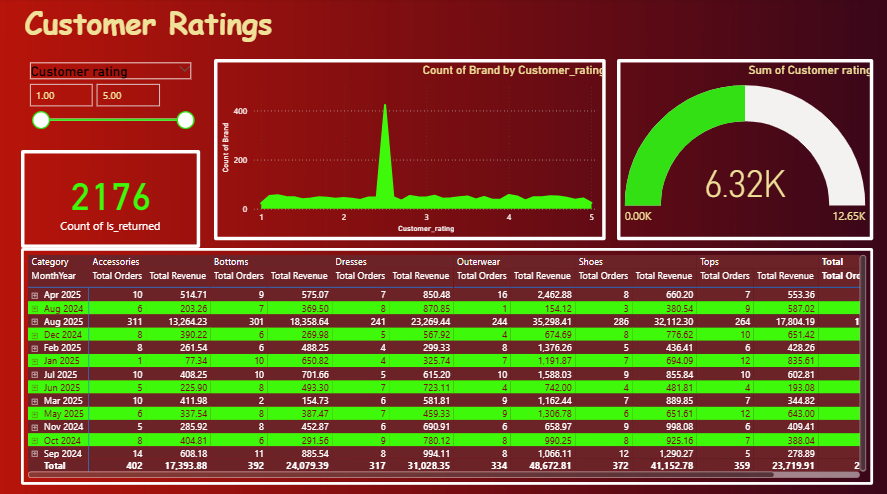

Layout of this report page (visuals, bound fields, positions):
{"tool":"powerbi","page":{"name":"Ratings","canvas":[1280,720],"ordinal":6},"visuals":[{"type":"stackedAreaChart","fields":{"Category":["Fashion_Data.Customer_rating"],"Y":["CountNonNull(Fashion_Data.Brand)"]},"box":[309.6,87.8,564.5,260.6],"z":0},{"type":"card","fields":{"Values":["CountNonNull(Fashion_Data.Is_returned)"]},"box":[31.7,218.9,257.8,141.1],"z":1000},{"type":"pivotTable","fields":{"Rows":["DateTable.MonthYear","Fashion_Data.Customer_rating"],"Columns":["Fashion_Data.Category"],"Values":["Fashion_Data.Total Orders","Fashion_Data.Total Revenue"]},"box":[31.7,360,1226.9,341.3],"z":2000},{"type":"textbox","box":[31.7,0,439.2,110.9],"z":3000},{"type":"slicer","fields":{"Values":["Fashion_Data.Customer_rating"]},"box":[31.7,87.8,257.8,174.2],"z":4000},{"type":"gauge","title":"Sum of Customer rating","fields":{"Y":["Sum(Fashion_Data.Customer_rating)"]},"box":[889.9,87.8,368.6,260.6],"z":5000}]}

Visuals, with their boxes in screenshot pixels (x1, y1, x2, y2), scaled from the page's 1280x720 canvas onto the 887x494 screenshot:
stackedAreaChart - Fashion_Data.Customer_rating x CountNonNull(Fashion_Data.Brand): l=215, t=60, r=606, b=239
card - CountNonNull(Fashion_Data.Is_returned): l=22, t=150, r=201, b=247
pivotTable - DateTable.MonthYear x Fashion_Data.Customer_rating: l=22, t=247, r=872, b=481
textbox: l=22, t=0, r=326, b=76
slicer - Fashion_Data.Customer_rating: l=22, t=60, r=201, b=180
"Sum of Customer rating" gauge: l=617, t=60, r=872, b=239
